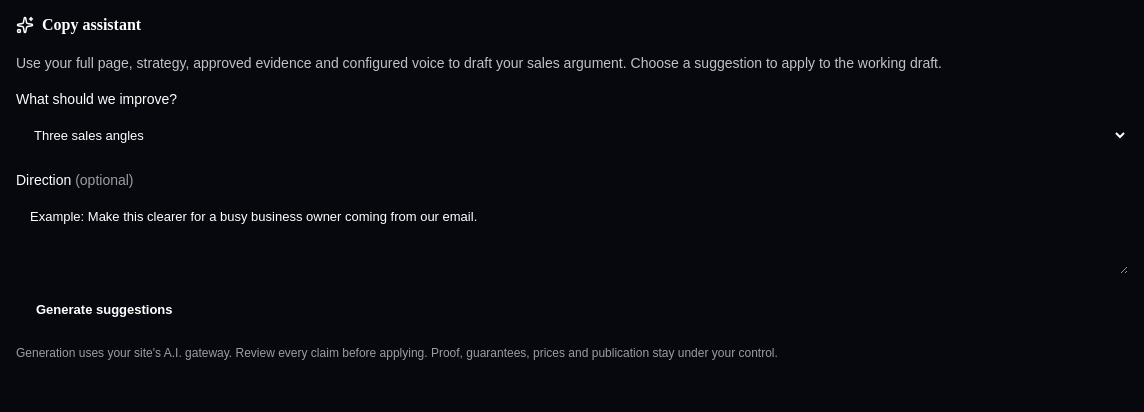
copy assistant user control › releases the assistant after a stalled response and aborts the request without changing copy
The image size is (1144, 412).
Click the button "Generate suggestions".
click(104, 309)  # box [16, 290, 192, 329]
Wait 40000 ms
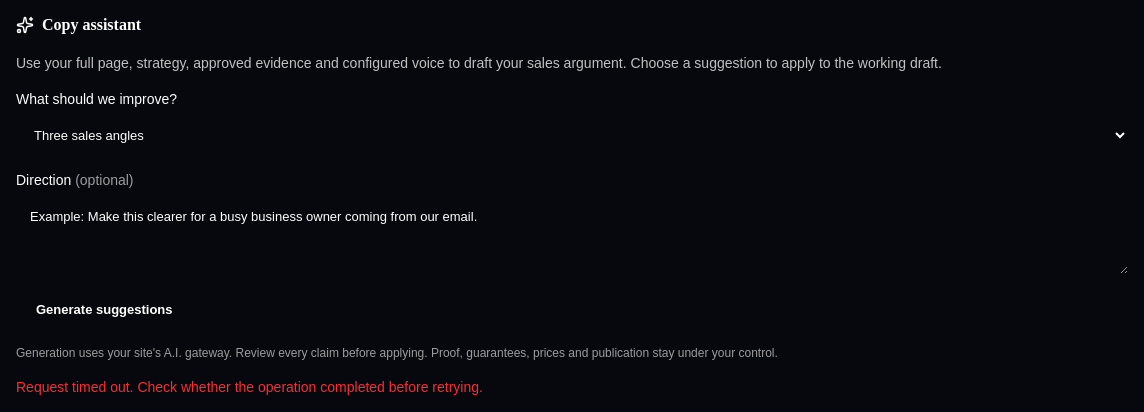
Expected: the message shows "timed out", [16, 379, 483, 395]
